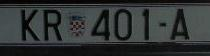0: (115, 9, 132, 41), (158, 22, 167, 28)
1: (141, 8, 150, 41)
4: (89, 10, 111, 41)
A: (170, 8, 191, 40)
K: (20, 8, 41, 42)
R: (43, 8, 63, 41)
